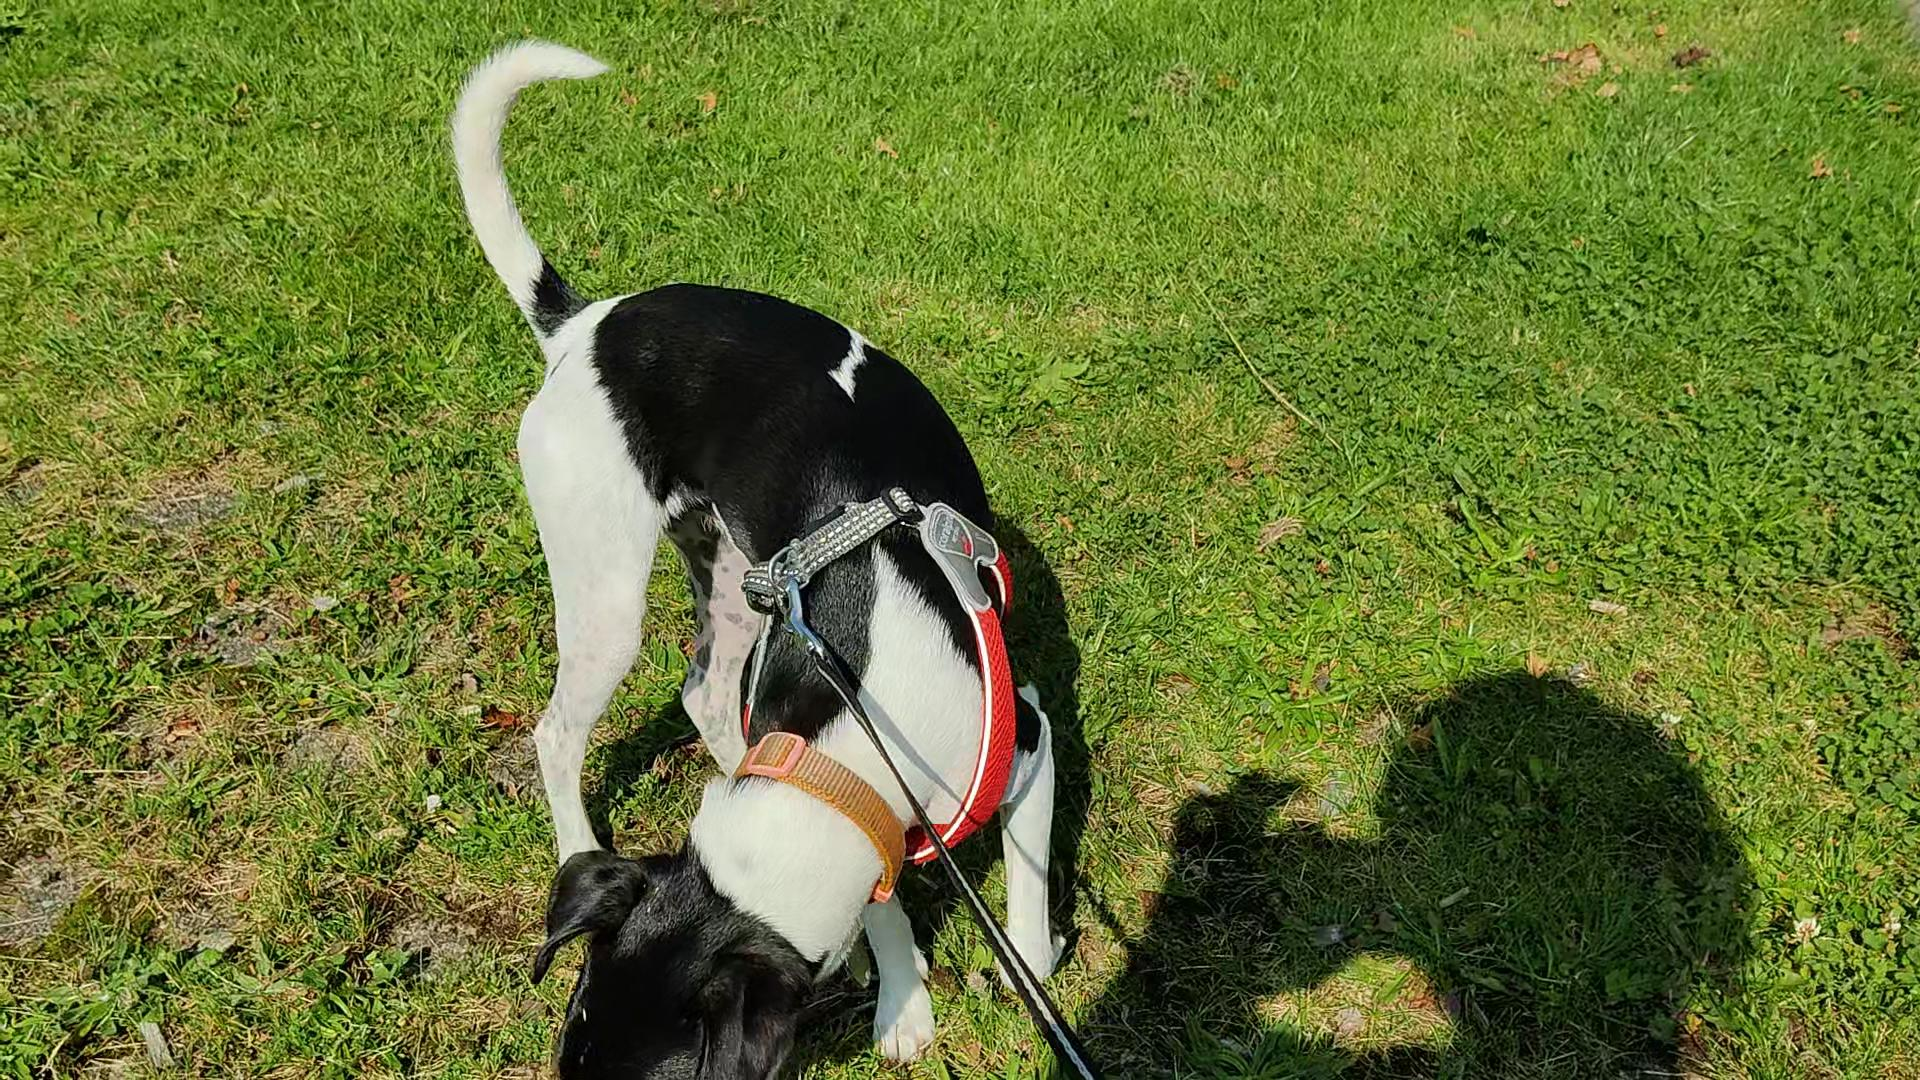Dog: (433, 21, 1071, 1079)
